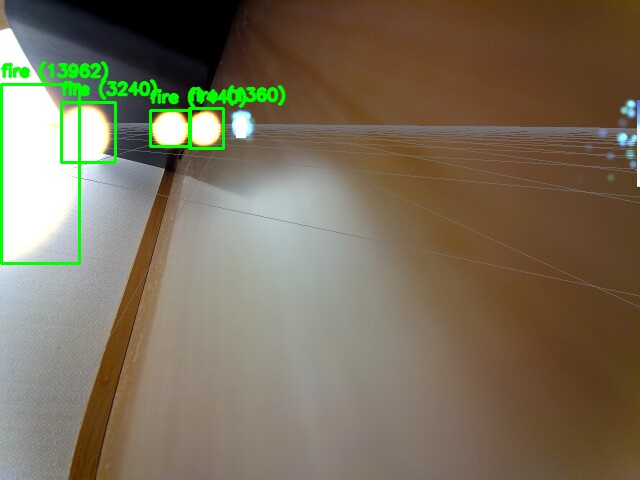fire: (1, 84, 79, 263), (61, 102, 115, 162), (150, 110, 190, 146), (189, 108, 223, 148)
